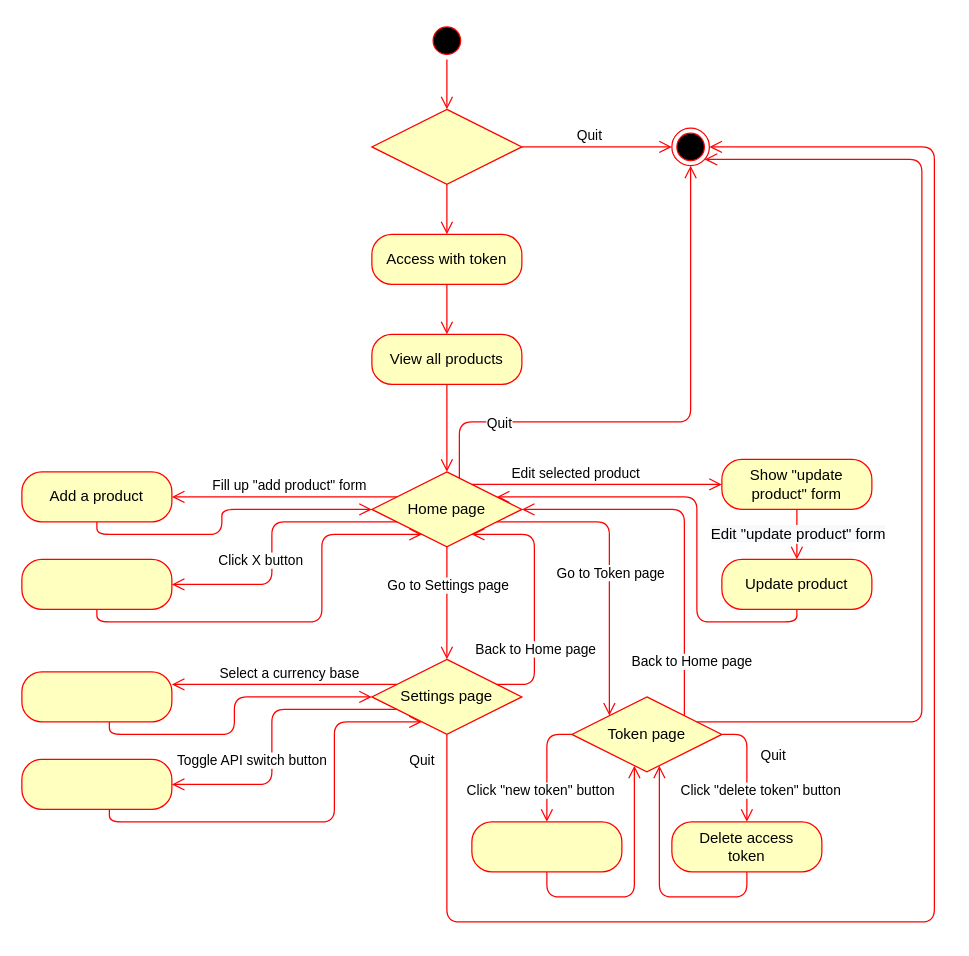
This 969x956 diagram has some shape labels left out. The centre of each missing label's shape, as x and y in pixels:
"Change currency base" goes at point 96,696.
"Create access token" goes at point 546,846.
"Delete a product" goes at point 96,583.
"Login page" goes at point 446,146.
"Switch API" goes at point 96,783.
